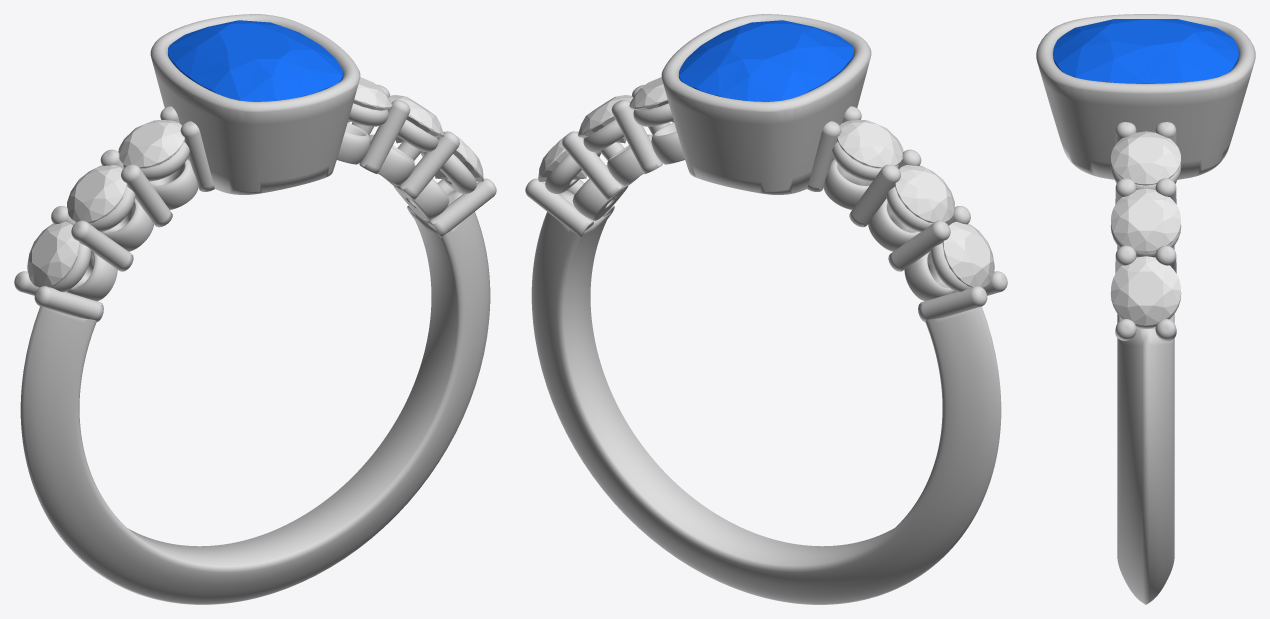
File: bluesapphire-cushion-platinum-bezelset-knifeedge-7stone.glb
3 renders of one model, left to right at view 1: azimuth 30°, elevation 25°; view 2: azimuth 150°, elevation 25°; view 3: azimuth 270°, elevation 25°, orthographic.
Visible parts, largest first — view 1: metal.002, stone, side.001, side.002, side.003, side.005, side.004, side.006; view 2: metal.002, stone, side.001, side.002, side.003, side.005, side.004, side.006; view 3: metal.002, stone, side.006, side.005, side.004.
Boxes of the visible parts, x1,y1,x2,y2 form: metal.002: (14,14,496,604); stone: (168,20,342,101); side.001: (27,221,79,287); side.002: (67,165,127,222); side.003: (118,120,184,168); side.005: (388,95,443,143); side.004: (348,77,392,122); side.006: (435,131,483,181); metal.002: (525,14,1007,604); stone: (679,20,853,101); side.001: (942,221,994,287); side.002: (894,165,954,222); side.003: (837,120,903,168); side.005: (578,95,633,143); side.004: (629,77,673,122); side.006: (538,131,586,181); metal.002: (1036,14,1255,604); stone: (1053,19,1238,83); side.006: (1111,256,1180,325); side.005: (1111,188,1180,252); side.004: (1111,131,1180,185).
Bounding box in the file's own units: 20.5 × 23.24 × 8.45.
